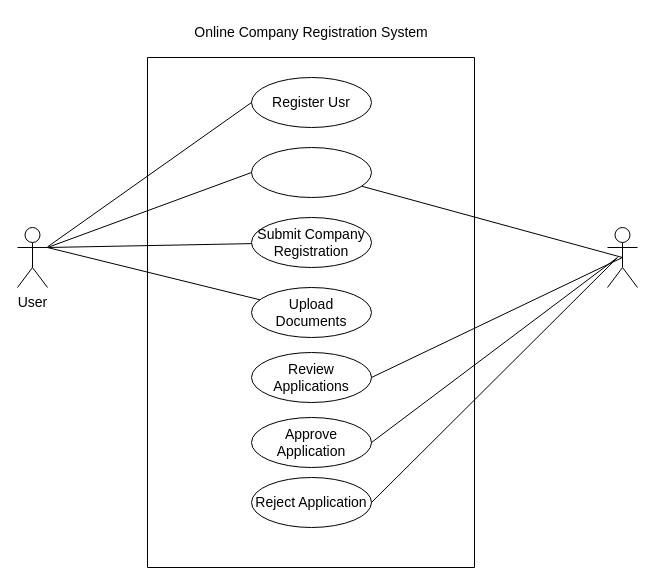
This 663x585 diagram has some shape labels left out. The centre of each missing label's shape, as x and y in pixels:
"Admion" goes at point (622, 257).
"Login" goes at point (311, 172).
